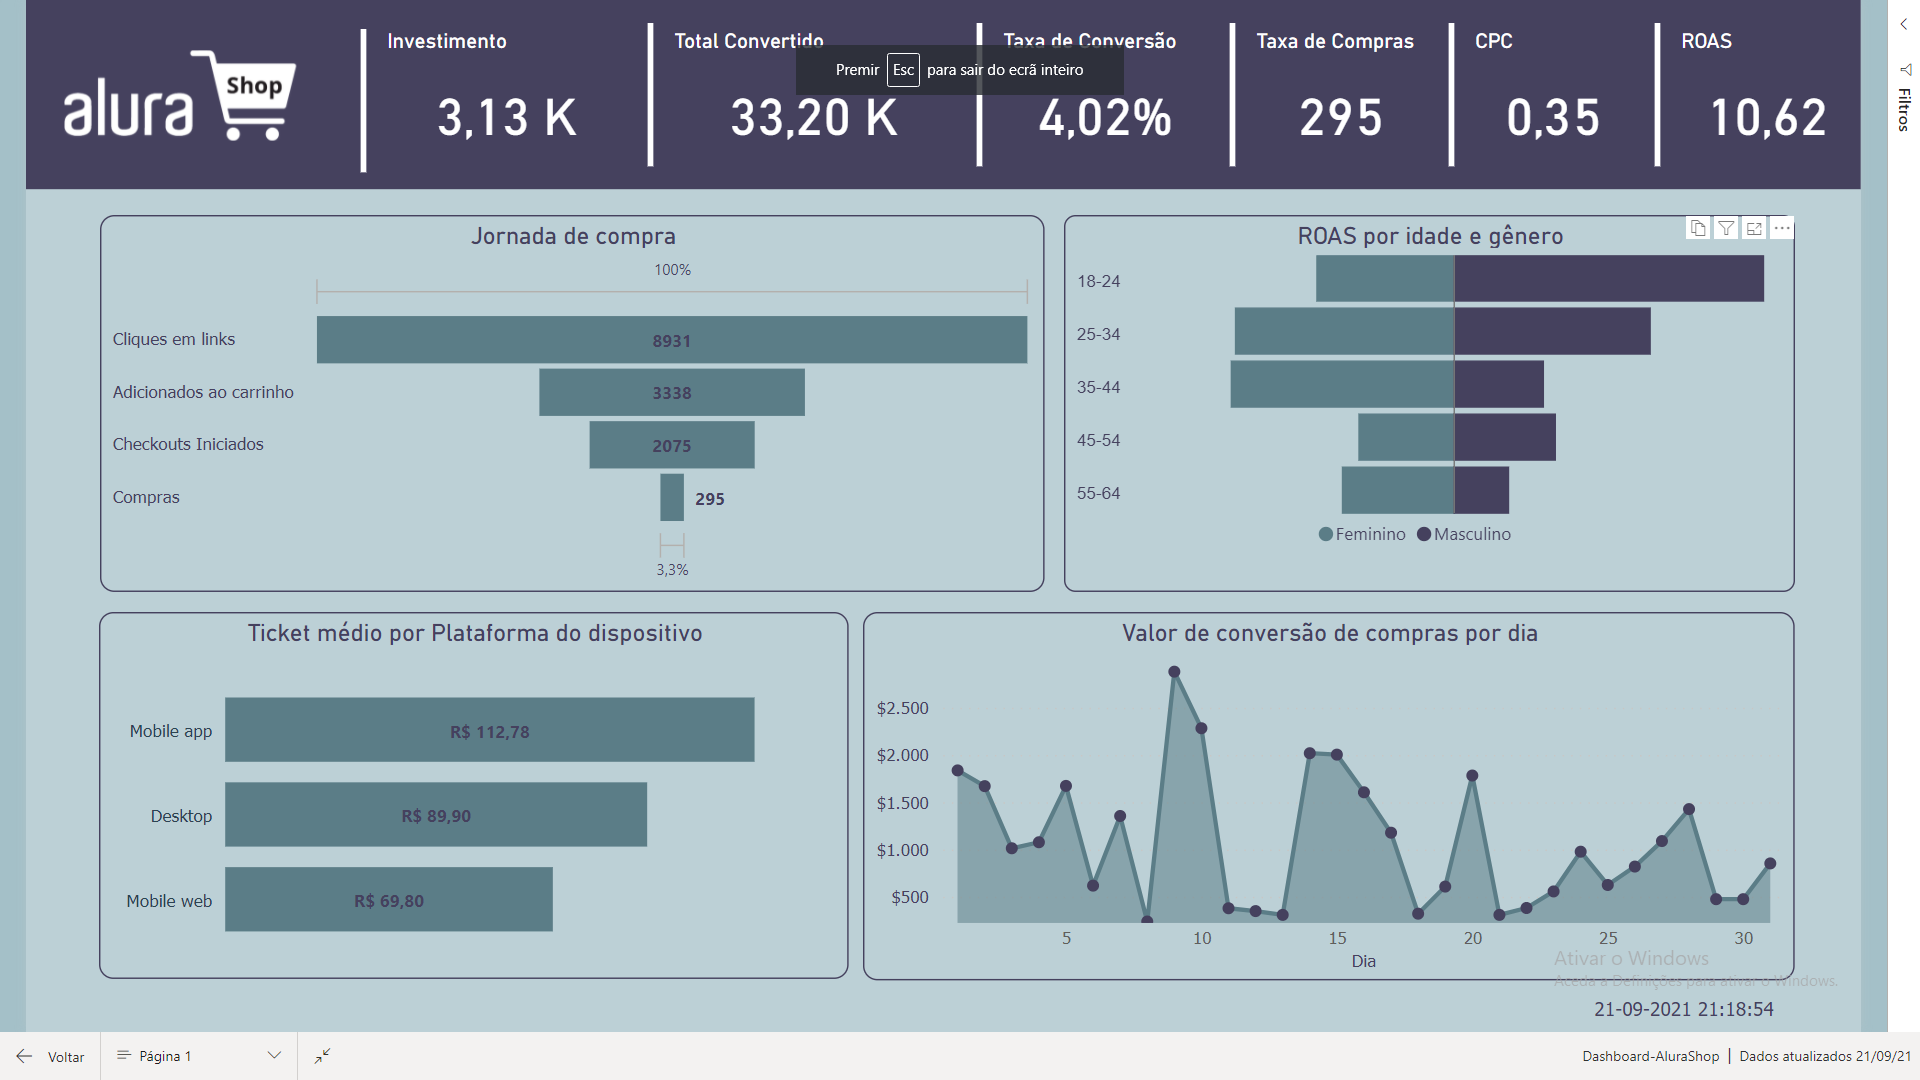

The page's visual inventory and layout, read from the dashboard file:
{"tool":"powerbi","page":{"name":"Página 1","canvas":[1280,720],"ordinal":0},"visuals":[{"type":"shape","box":[0,0,1280.2,132.3],"z":0},{"type":"card","title":"Taxa de Compras","fields":{"Values":["Tabela_dispositivos.Total de Compras"]},"box":[853.4,20.4,128.7,100.3],"z":1000},{"type":"card","title":"Total Convertido","fields":{"Values":["Tabela_dispositivos.Total convertido em compras"]},"box":[447.5,20.4,205.1,100.3],"z":2000},{"type":"card","title":"Investimento","fields":{"Values":["Tabela_dispositivos.Total investido"]},"box":[246.8,20.4,176.7,100.3],"z":3000},{"type":"card","title":"CPC","fields":{"Values":["Tabela_dispositivos.CPC"]},"box":[1006.1,20.4,119.9,100.3],"z":4000},{"type":"card","title":"Taxa de Conversão","fields":{"Values":["Tabela_dispositivos.Taxa de Conversão"]},"box":[676.6,20.4,152.7,100.3],"z":5000},{"type":"card","title":"ROAS","fields":{"Values":["Tabela_dispositivos.ROAS"]},"box":[1150,20,130,100.3],"z":6000},{"type":"image","box":[21.3,24.9,172.2,82.6],"z":7000},{"type":"shape","box":[223.7,20.4,23.1,100.3],"z":8000},{"type":"shape","box":[424.4,16,23.1,100.3],"z":9000},{"type":"shape","box":[653.4,16,23.1,100.3],"z":10000},{"type":"shape","box":[830.1,16,23.1,100.3],"z":11000},{"type":"shape","box":[982.8,16,23.1,100.3],"z":12000},{"type":"shape","box":[1126.6,16,23.1,100.3],"z":13000},{"type":"funnel","title":"Jornada de compra","fields":{"Y":["Sum(Tabela_dispositivos.Cliques em links)","Sum(Tabela_dispositivos.Adicionados ao carrinho)","Sum(Tabela_dispositivos.Checkouts Iniciados)","Sum(Tabela_dispositivos.Compras)"]},"box":[51.5,150,658.7,262.8],"z":14000},{"type":"TornadoChart1452517688218","title":"ROAS por idade e gênero","fields":{"Category":["Tabela_idade_e_genero.Idade"],"Values":["Tabela_dispositivos.ROAS"],"Series":["Tabela_idade_e_genero.Gênero"]},"box":[724.4,150,509.6,262.8],"z":15000},{"type":"areaChart","title":"Valor de conversão de compras por dia","fields":{"Category":["Tabela_idade_e_genero.Dia.Variation.Hierarquia de datas.Dia"],"Y":["Sum(Tabela_idade_e_genero.Valor de conversão de compras)"]},"box":[584.2,427,649.9,256.6],"z":16000},{"type":"clusteredBarChart","fields":{"Category":["Tabela_dispositivos.Plataforma do dispositivo"],"Y":["Tabela_dispositivos.Ticket médio"]},"box":[51.1,427,522.6,256.4],"z":17000},{"type":"card","title":"Atualizado em :","fields":{"Values":["Min(Última atualização.Última atualização)"]},"box":[1079.5,692.7,154.9,27.3],"z":17001}]}

Visuals, with their boxes on the page's 1280x720 design canvas (x1, y1, x2, y2). These are canvas units, not pixel positions in the 1920x1080 screenshot, which may show the page scaled, cropped or inside an application window:
shape: bbox=[0, 0, 1280, 132]
"Taxa de Compras" card: bbox=[853, 20, 982, 121]
"Total Convertido" card: bbox=[448, 20, 653, 121]
"Investimento" card: bbox=[247, 20, 424, 121]
"CPC" card: bbox=[1006, 20, 1126, 121]
"Taxa de Conversão" card: bbox=[677, 20, 829, 121]
"ROAS" card: bbox=[1150, 20, 1280, 120]
image: bbox=[21, 25, 194, 108]
shape: bbox=[224, 20, 247, 121]
shape: bbox=[424, 16, 448, 116]
shape: bbox=[653, 16, 676, 116]
shape: bbox=[830, 16, 853, 116]
shape: bbox=[983, 16, 1006, 116]
shape: bbox=[1127, 16, 1150, 116]
"Jornada de compra" funnel: bbox=[52, 150, 710, 413]
"ROAS por idade e gênero" TornadoChart1452517688218: bbox=[724, 150, 1234, 413]
"Valor de conversão de compras por dia" areaChart: bbox=[584, 427, 1234, 684]
clusteredBarChart - Tabela_dispositivos.Plataforma do dispositivo x Tabela_dispositivos.Ticket médio: bbox=[51, 427, 574, 683]
"Atualizado em :" card: bbox=[1080, 693, 1234, 720]
